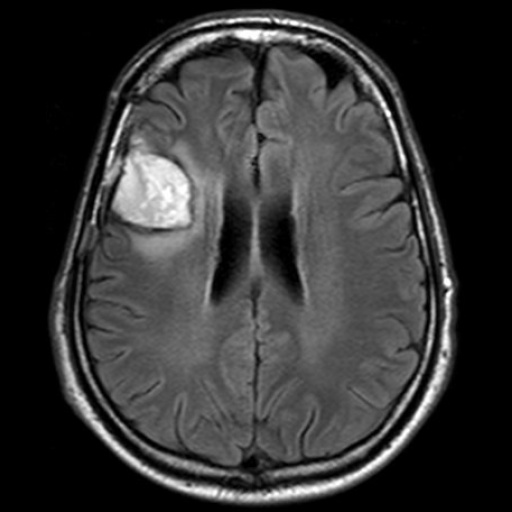tumor: (106, 146, 197, 232)
